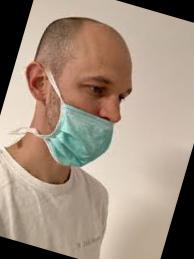mask_weared_incorrect: (42, 44, 141, 184)
